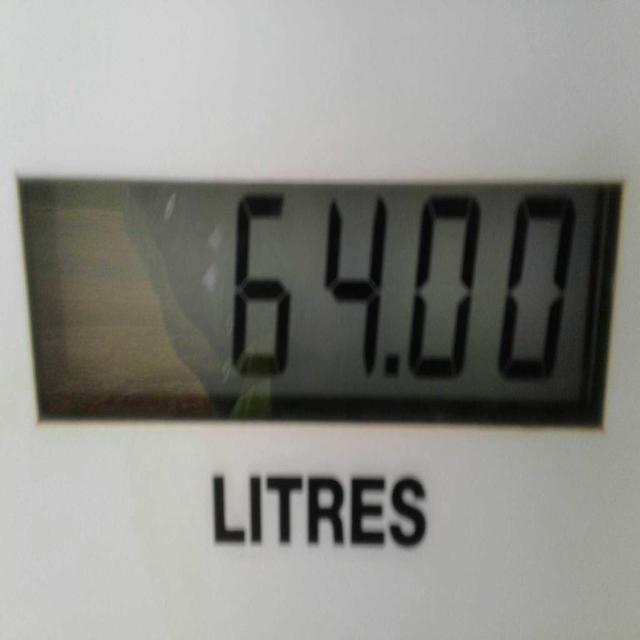.: (378, 340, 402, 405)
0: (491, 183, 577, 379), (400, 191, 480, 378)
4: (311, 188, 381, 392)
6: (223, 194, 306, 378)
